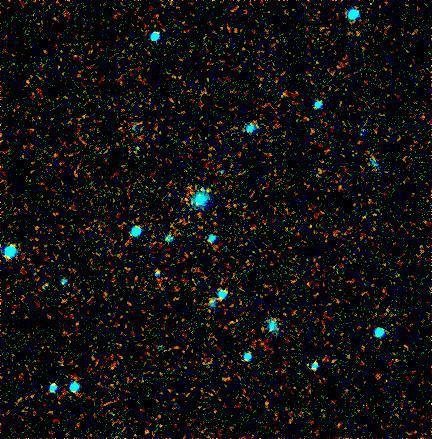star: (190, 175, 220, 205)
